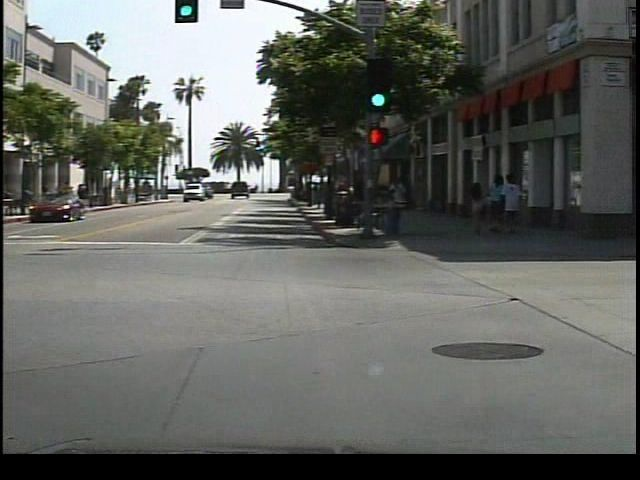person: (394, 173, 421, 228)
